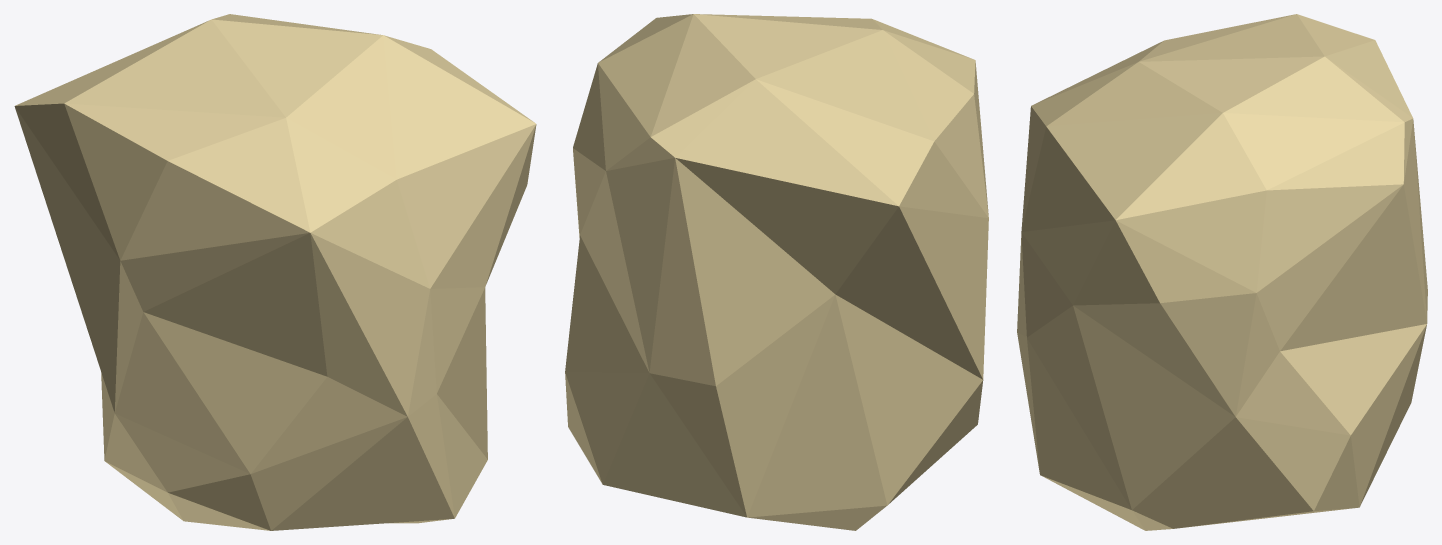
File: Rock (7).fbx
3 views of the same model, side by side, from view 1: azimuth 30°, elevation 25°; view 2: azimuth 150°, elevation 25°; view 3: azimuth 270°, elevation 25° (orthographic). The views are drawn at different scales.
Visible parts, largest first — view 1: Asteroid6; view 2: Asteroid6; view 3: Asteroid6.
Part boxes in pixels (x1,y1,x2,y2): Asteroid6: (14, 14, 536, 530); Asteroid6: (565, 14, 988, 530); Asteroid6: (1017, 14, 1427, 530).
Bounding box in the file's own units: 176 × 195 × 170.
